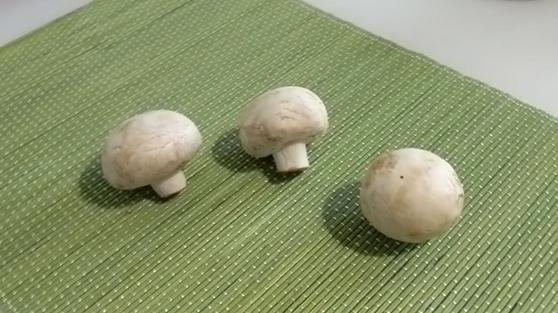champignon: (361, 142, 470, 247), (99, 106, 211, 206), (234, 77, 332, 178)
